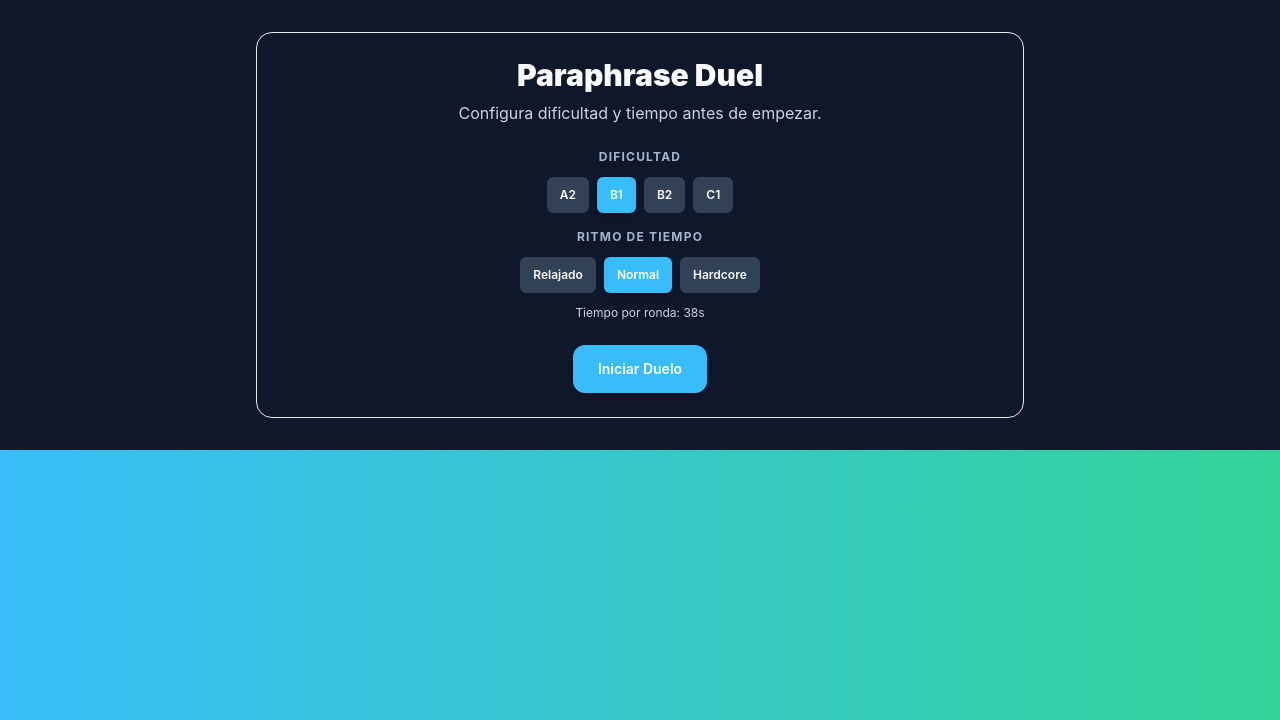
Test: ParaphraseDuelView › accepts a correct paraphrase
The image size is (1280, 720).
Step 1. Click the button "Iniciar Duelo" → (640, 369), box x1=573 y1=345 x2=707 y2=393
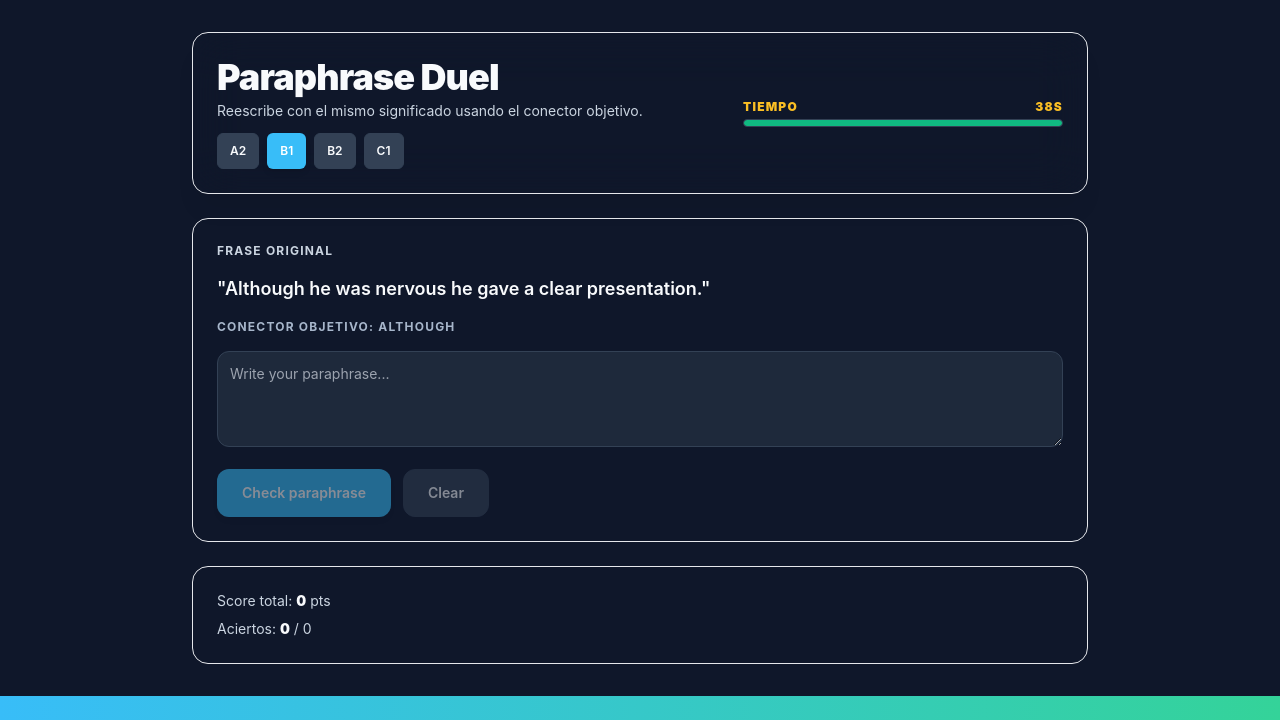
Step 2. Type "Although he was nervous he gave a clear presentation." into the text box named "Paraphrase answer" → (640, 399), box x1=217 y1=351 x2=1063 y2=447
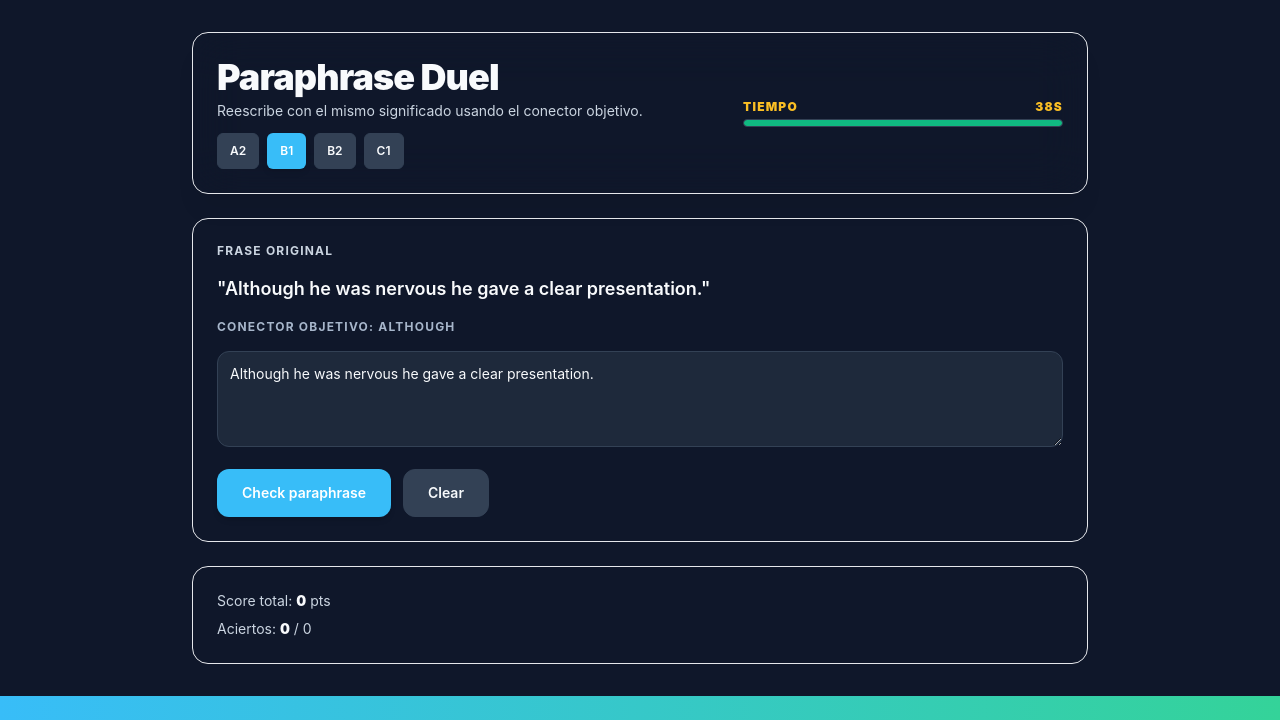
Step 3. Click the button "Check paraphrase" → (304, 493), box x1=217 y1=469 x2=391 y2=517
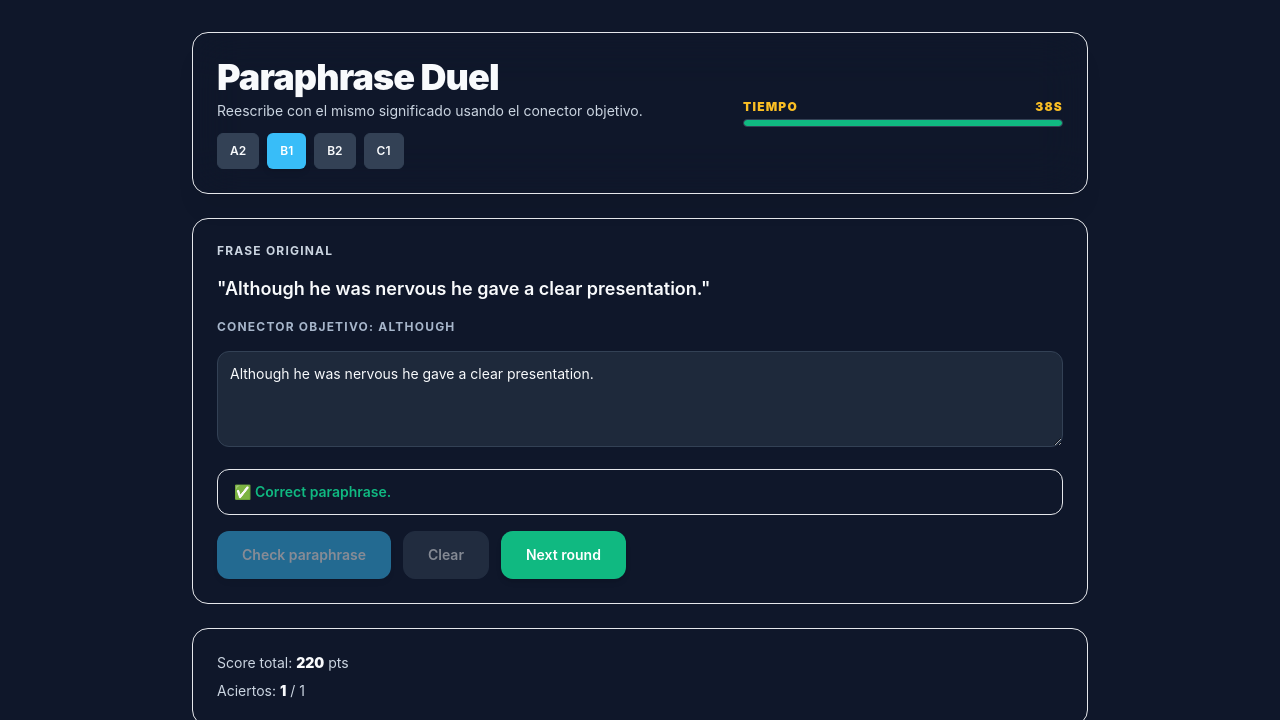
Now the text "✅ Correct paraphrase." is shown, box x1=217 y1=469 x2=1063 y2=515
